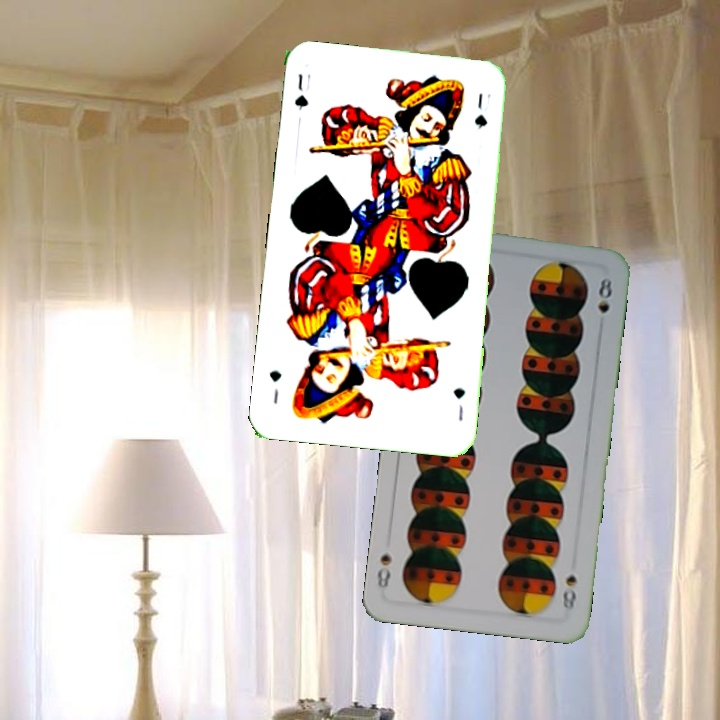GU: (290, 70, 311, 112), (449, 384, 468, 423)
S8: (558, 570, 579, 612)
